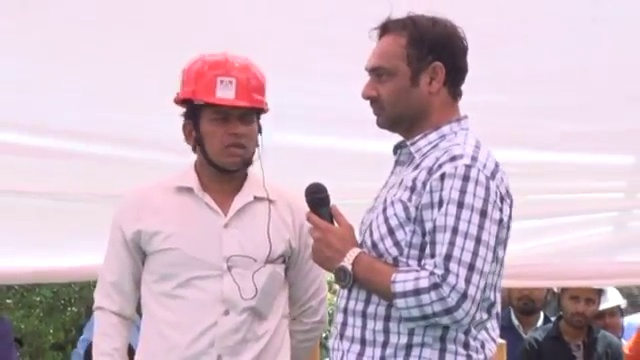helmet: (175, 50, 270, 116), (597, 288, 630, 313)
helmet_off: (362, 21, 479, 139), (555, 287, 607, 333), (509, 286, 550, 325)
helmet_on: (175, 48, 269, 186), (595, 290, 630, 337)
person: (90, 51, 328, 360), (304, 20, 512, 360), (518, 282, 624, 357), (499, 286, 558, 358)
